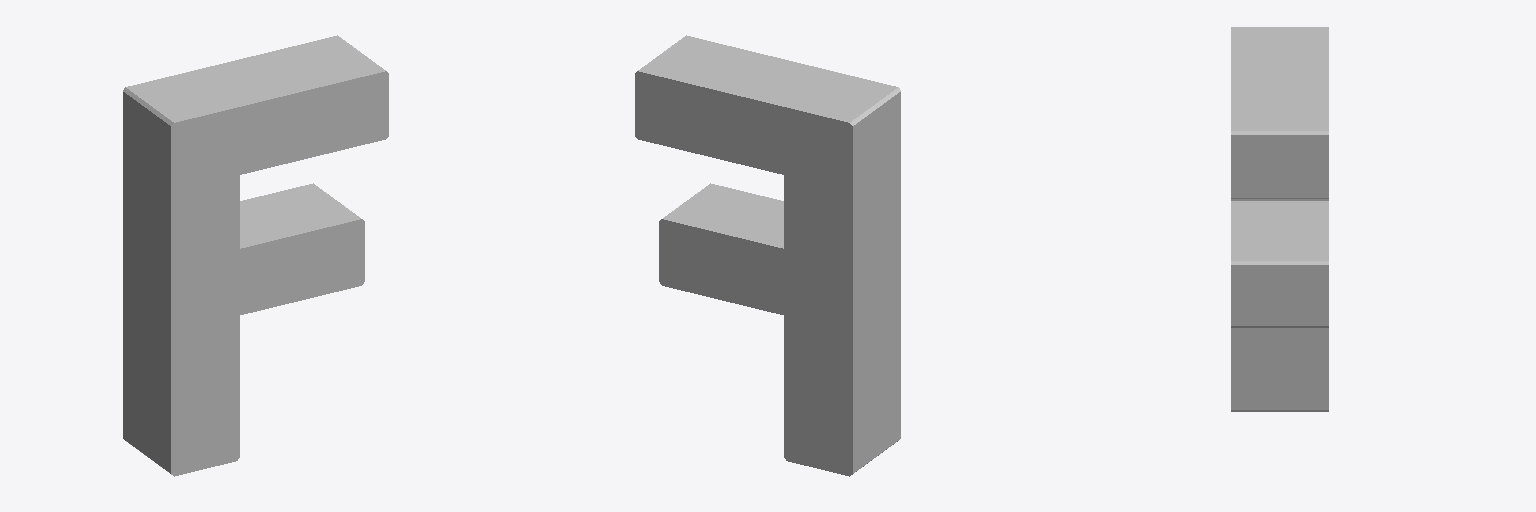
3 views of the same model, side by side, from view 1: azimuth 30°, elevation 25°; view 2: azimuth 150°, elevation 25°; view 3: azimuth 270°, elevation 25° (orthographic).
Visible parts, largest first — view 1: text: ABCDEFGHIJKLMNOPQRSTUVWXYZ[number redacted]; view 2: text: ABCDEFGHIJKLMNOPQRSTUVWXYZ[number redacted]; view 3: text: ABCDEFGHIJKLMNOPQRSTUVWXYZ[number redacted].
Part boxes in pixels (left/top/right/bottom): text: ABCDEFGHIJKLMNOPQRSTUVWXYZ[number redacted]: left=123, top=35, right=388, bottom=476; text: ABCDEFGHIJKLMNOPQRSTUVWXYZ[number redacted]: left=635, top=35, right=900, bottom=476; text: ABCDEFGHIJKLMNOPQRSTUVWXYZ[number redacted]: left=1231, top=27, right=1328, bottom=411.
Size of the model in its own units: 64.54 by 100 by 25.